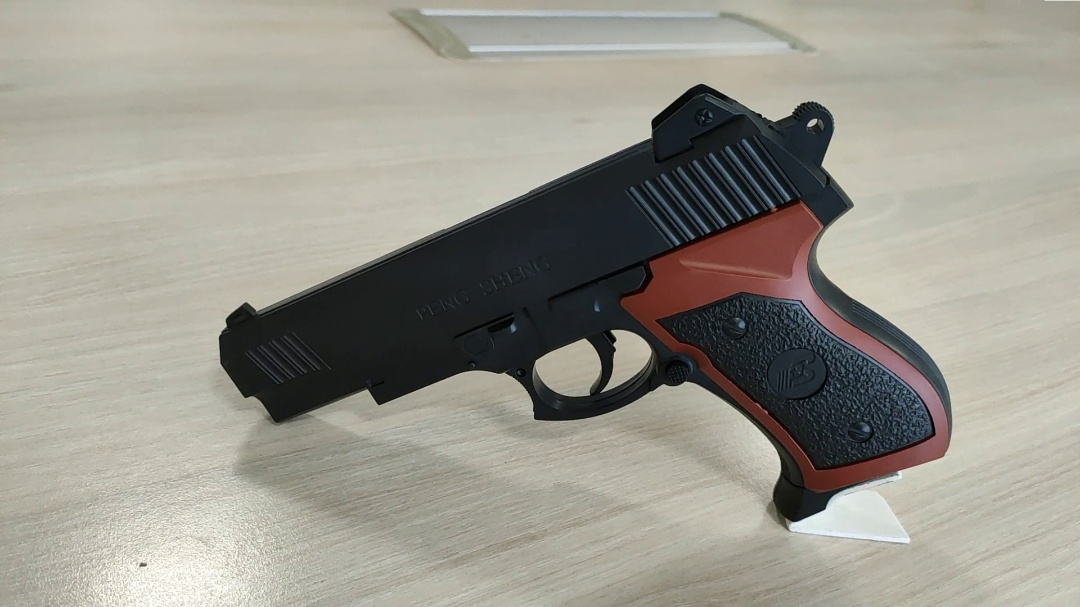gun: (213, 77, 958, 523)
